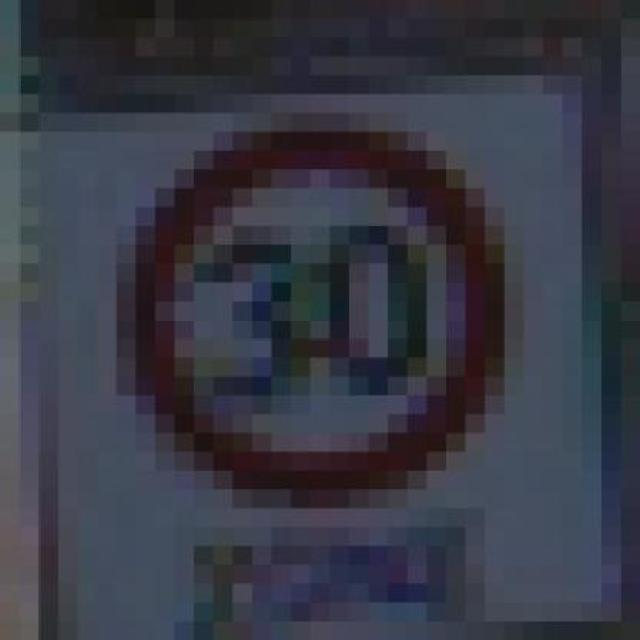forb_speed_over_30: (138, 130, 502, 502)
